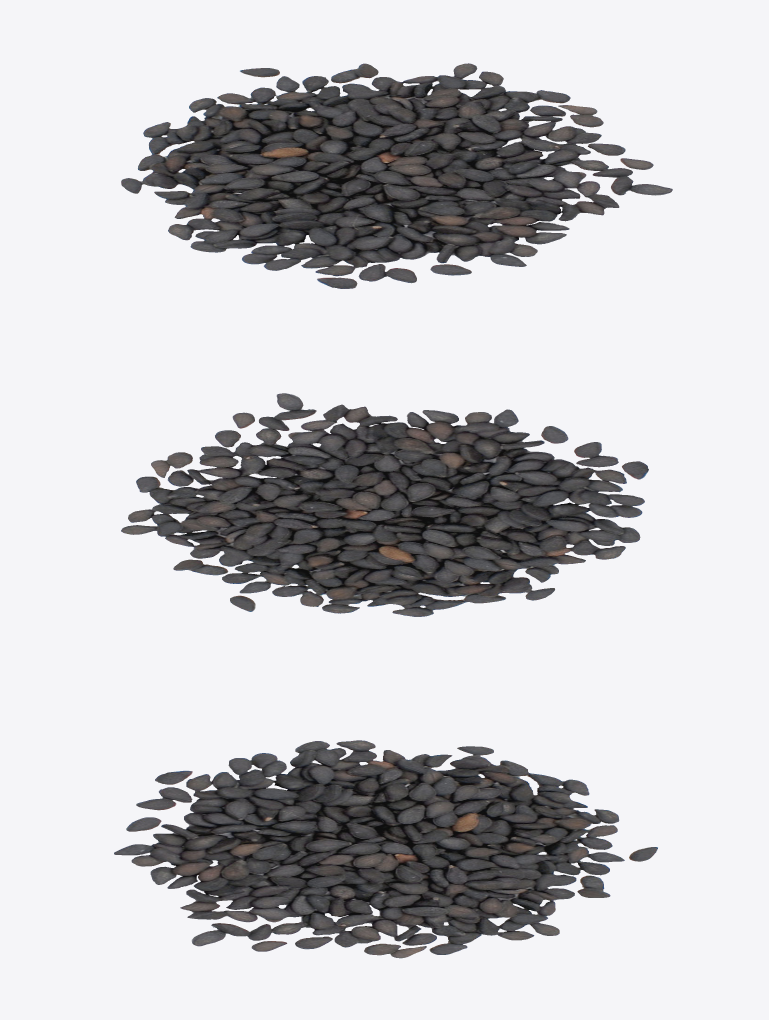
The model's file is BlackSesameSeeds.fbx.
The picture shows the model from 3 angles, top to bottom: view 1: azimuth 30°, elevation 25°; view 2: azimuth 150°, elevation 25°; view 3: azimuth 270°, elevation 25°; orthographic projection.
Visible parts, largest first — view 1: pDisc1; view 2: pDisc1; view 3: pDisc1.
Boxes of the visible parts, x1,y1,x2,y2 form: pDisc1: (121, 63, 672, 288); pDisc1: (121, 393, 648, 616); pDisc1: (114, 740, 657, 958).
Bounding box in the file's own units: 16.86 × 0 × 16.93.
1 material, 1 textured.
